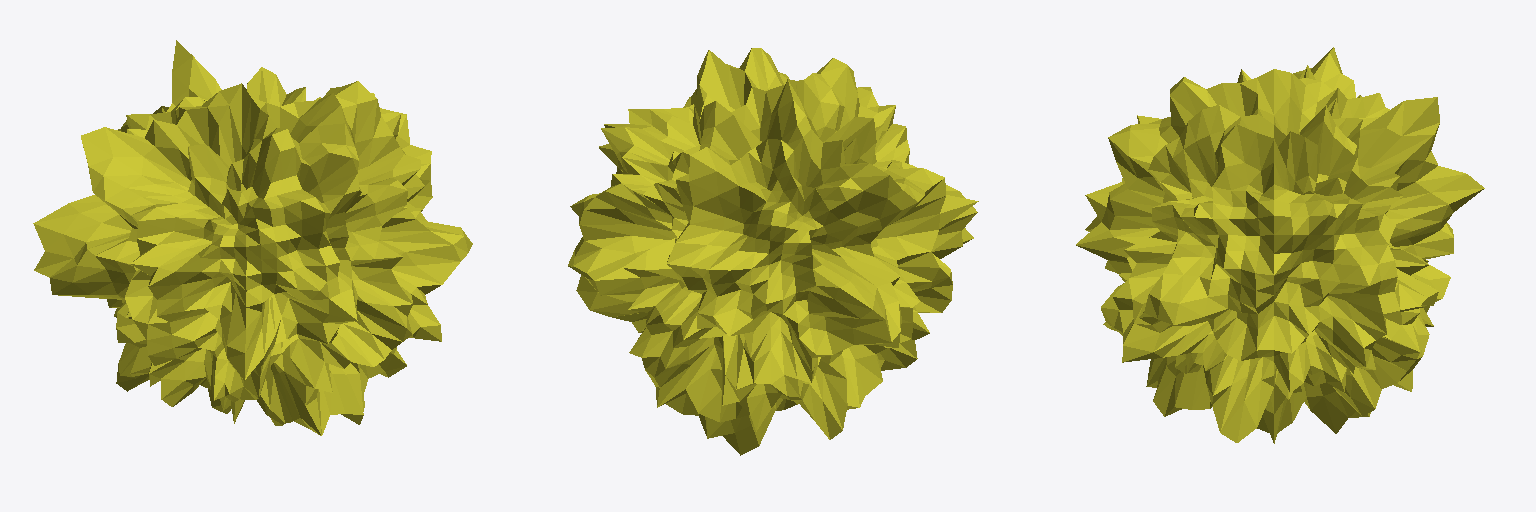
File: yellowGlow.obj
The picture shows the model from 3 angles: view 1: azimuth 30°, elevation 25°; view 2: azimuth 150°, elevation 25°; view 3: azimuth 270°, elevation 25°; orthographic projection.
Visible parts, largest first — view 1: Cube_Cube.001; view 2: Cube_Cube.001; view 3: Cube_Cube.001.
Boxes of the visible parts, x1,y1,x2,y2 form: Cube_Cube.001: [33, 40, 472, 435]; Cube_Cube.001: [568, 48, 978, 455]; Cube_Cube.001: [1076, 47, 1484, 443].
Size of the model in its own units: 2.35 by 2.32 by 2.41.